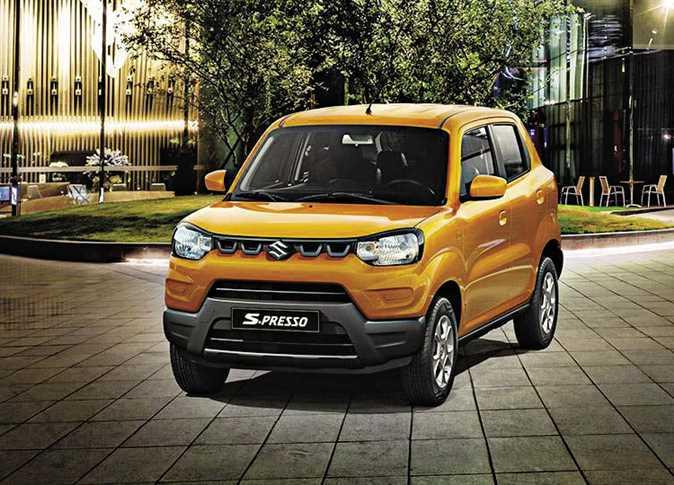suzuki: (263, 234, 294, 263)
